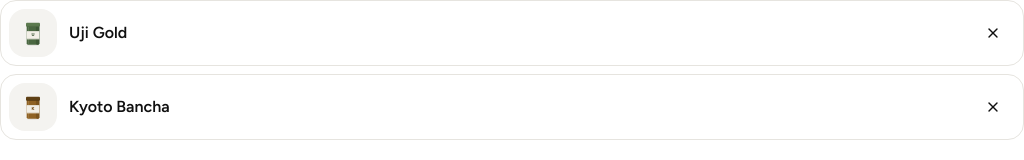
Test: WishlistList › removes a product through the shared wishlist state
The width and height of the screenshot is (1024, 160).
Click the button named "Remove Uji Gold".
click(993, 33)  # box [975,15,1011,51]
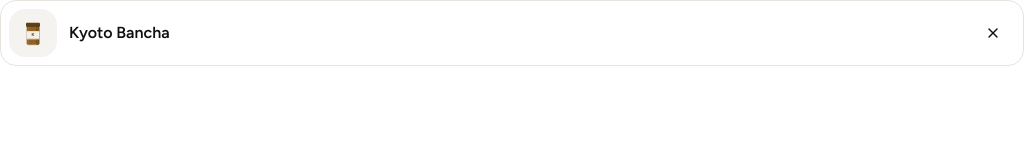
Expected: the link "Uji Gold" is gone
